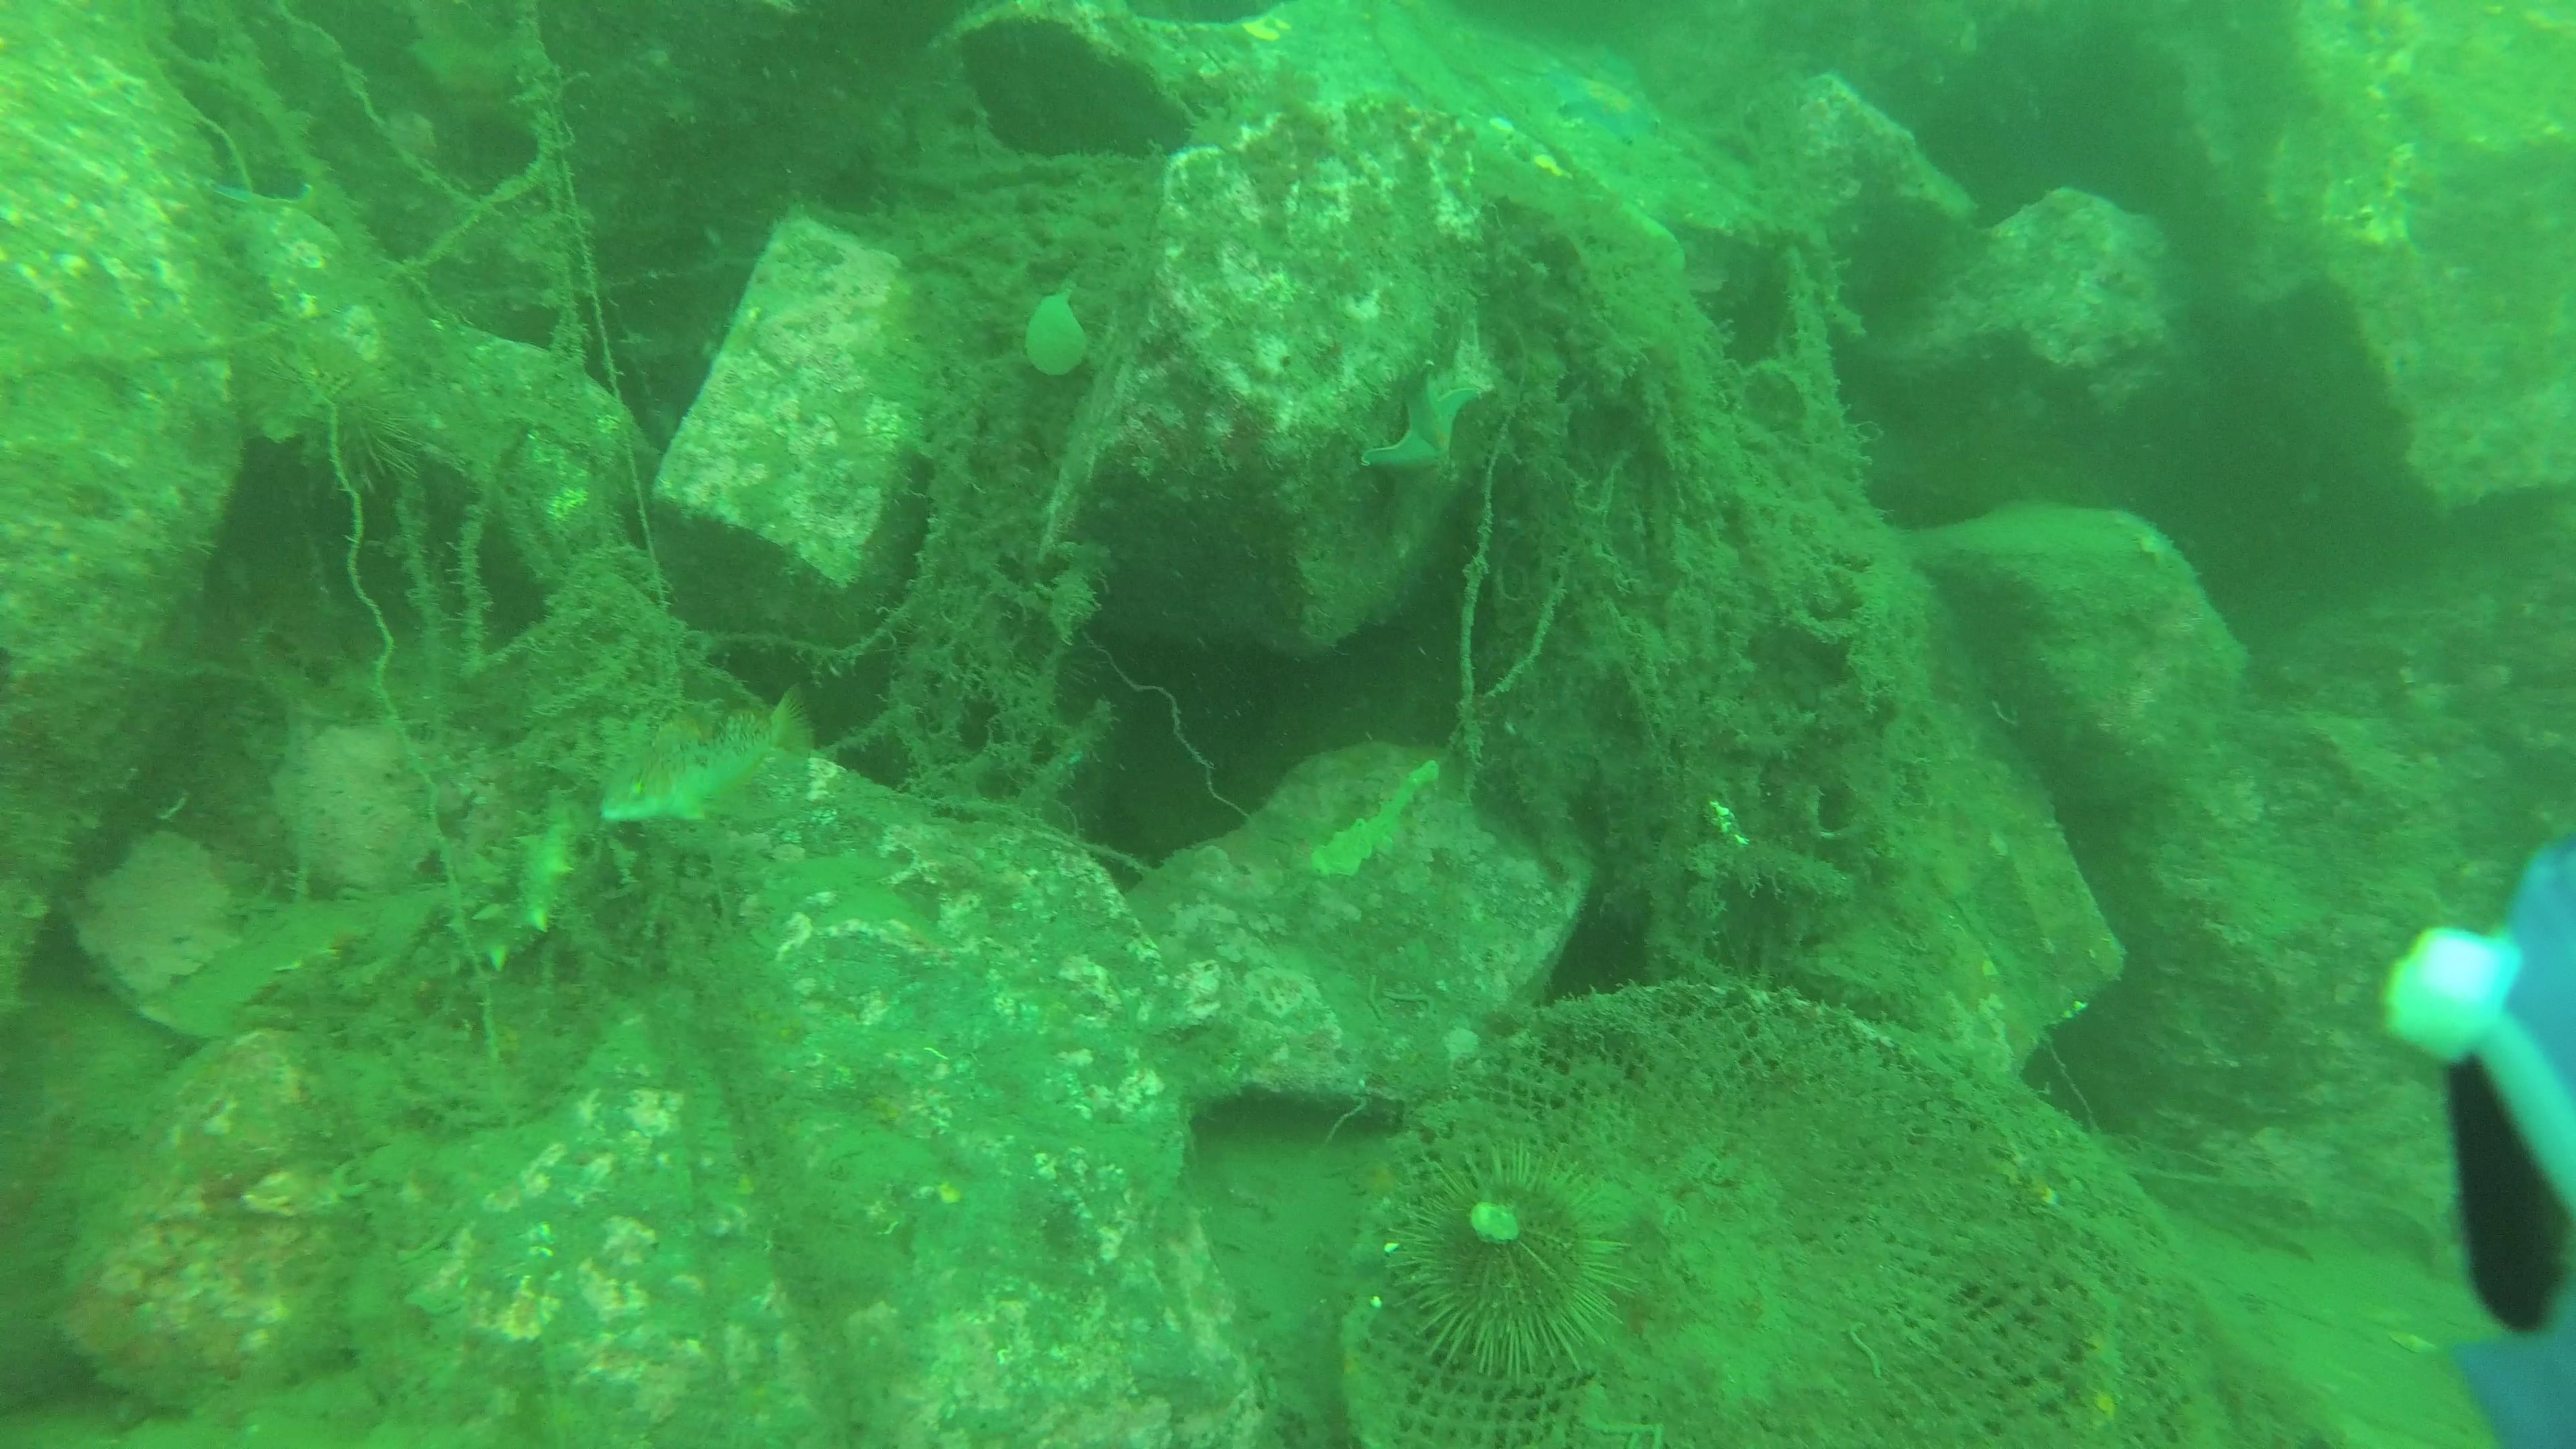echinus: (1369, 1141, 1642, 1387), (239, 327, 428, 501)
holothurian: (421, 801, 586, 984)
starfish: (1361, 356, 1484, 554), (1545, 60, 1663, 150)
